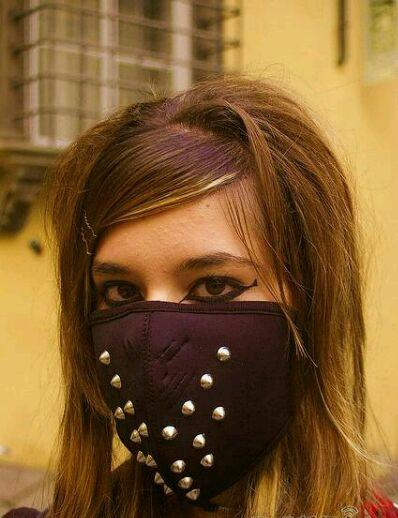OK: (80, 246, 307, 473)
